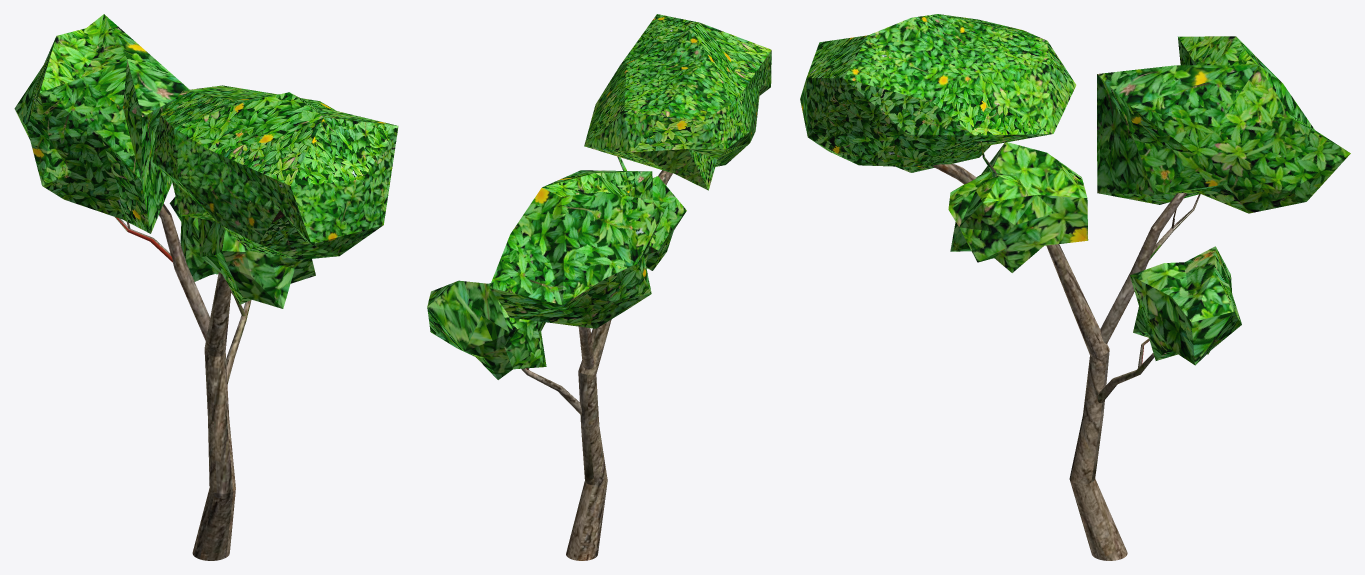
File: BushPlantNormal.fbx
The picture shows the model from 3 angles, left to right: view 1: azimuth 30°, elevation 25°; view 2: azimuth 150°, elevation 25°; view 3: azimuth 270°, elevation 25°; orthographic projection. The views are drawn at different scales.
Parts seen in each view (by area): view 1: BushPlantNormal; view 2: BushPlantNormal; view 3: BushPlantNormal.
Boxes of the visible parts, left/top/right/bottom form: BushPlantNormal: left=14, top=14, right=398, bottom=560; BushPlantNormal: left=427, top=14, right=771, bottom=560; BushPlantNormal: left=800, top=14, right=1350, bottom=560.
Bounding box in the file's own units: 0.3036 × 0.5557 × 0.5833.
